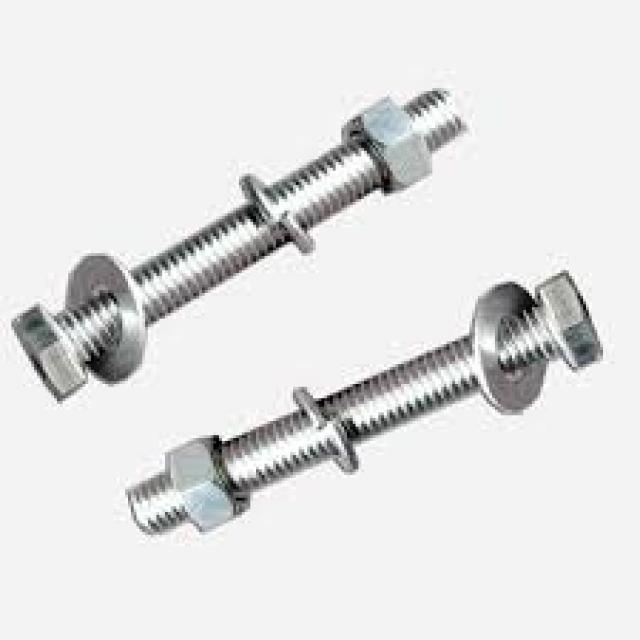metal: (9, 83, 467, 398), (125, 270, 600, 549), (66, 250, 143, 390), (470, 276, 541, 418), (336, 91, 430, 191), (162, 433, 242, 527), (287, 390, 356, 475), (239, 168, 310, 250)
